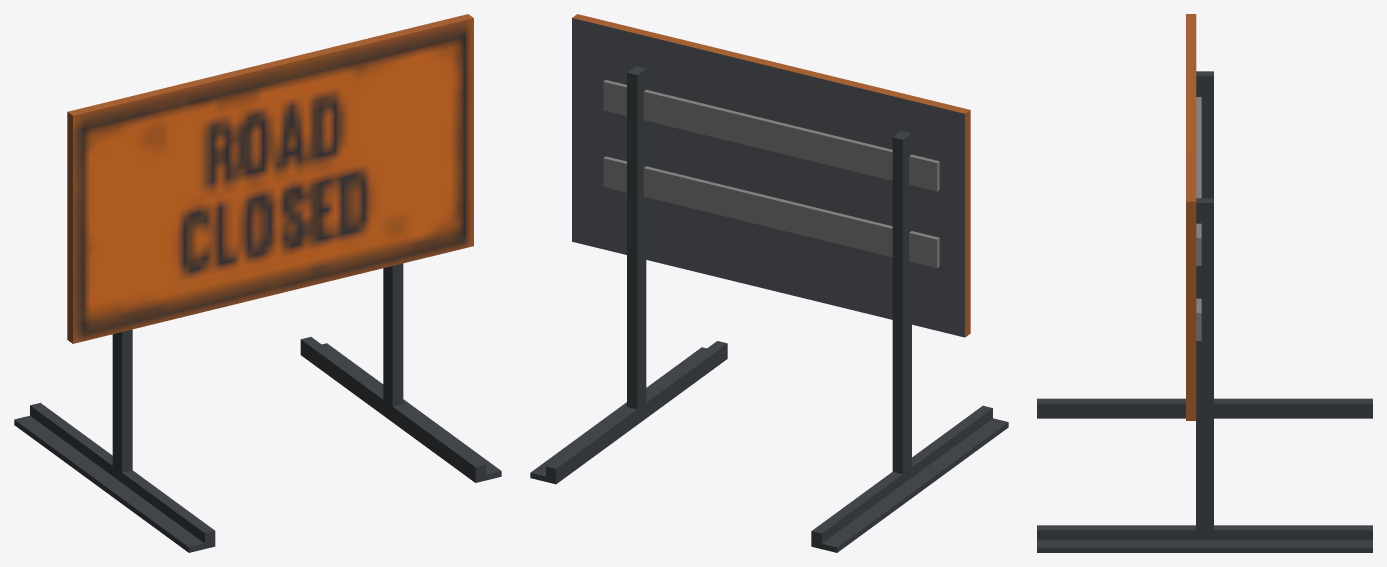
Rendered from SM_Prop_Sign_Road_02.obj.
3 views of the same model, side by side, from view 1: azimuth 30°, elevation 25°; view 2: azimuth 150°, elevation 25°; view 3: azimuth 270°, elevation 25° (orthographic). The views are drawn at different scales.
Visible parts, largest first — view 1: SM_Prop_Sign_Road_02_0; view 2: SM_Prop_Sign_Road_02_0; view 3: SM_Prop_Sign_Road_02_0.
Boxes of the visible parts, x1,y1,x2,y2 form: SM_Prop_Sign_Road_02_0: (14, 14, 501, 552); SM_Prop_Sign_Road_02_0: (530, 14, 1008, 552); SM_Prop_Sign_Road_02_0: (1037, 14, 1372, 552).
Size of the model in its own units: 1.25 by 1.16 by 0.9439.
Materials: 1 (1 with a texture image).
